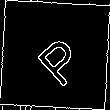P_NW: (25, 24, 85, 86)
